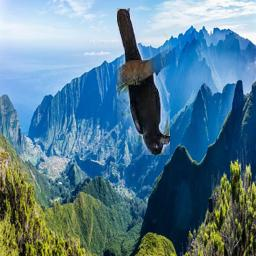Crow: (118, 9, 171, 156)
